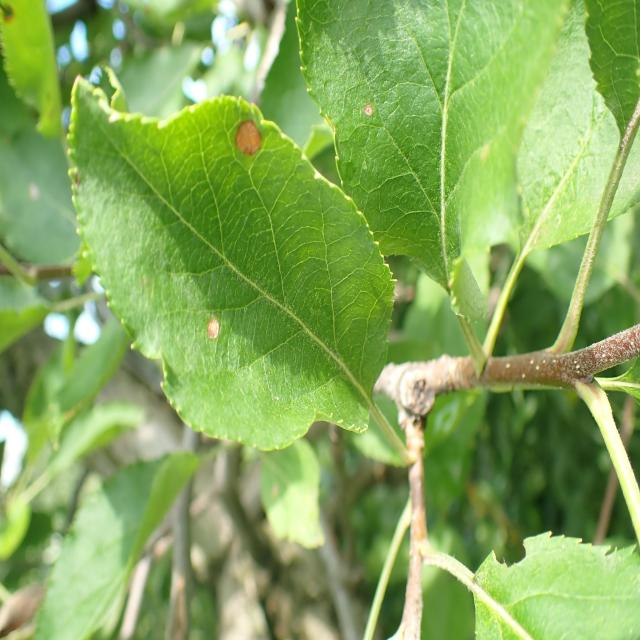frog-eye-leaf-spot: (65, 70, 398, 451), (295, 1, 571, 323)
